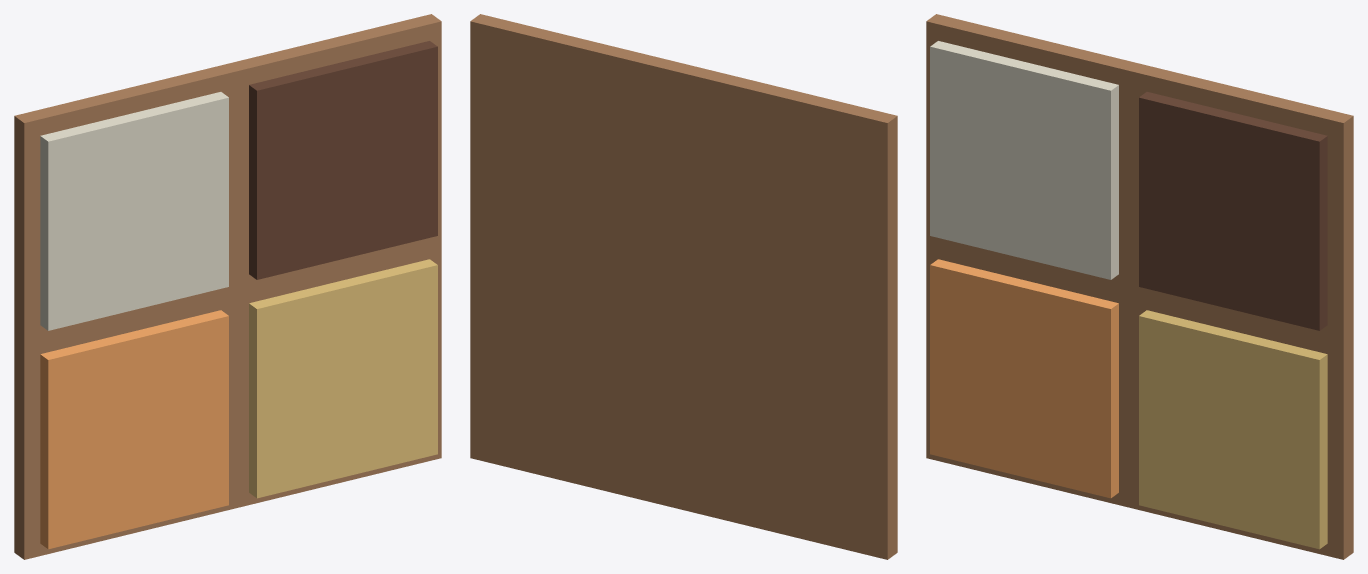
The model's file is 04_texture_remaster_overlay_4.glb.
The picture shows the model from 3 angles, left to right: view 1: azimuth 30°, elevation 25°; view 2: azimuth 150°, elevation 25°; view 3: azimuth 330°, elevation 25°; orthographic projection.
Parts seen in each view (by area): view 1: uv_reference_tile, atlas_quadrant_c, atlas_quadrant_d, atlas_quadrant_b, atlas_quadrant_a; view 2: uv_reference_tile; view 3: uv_reference_tile, atlas_quadrant_c, atlas_quadrant_d, atlas_quadrant_a, atlas_quadrant_b.
Part boxes in pixels (x1,y1,x2,y2): uv_reference_tile: (14, 14, 441, 559); atlas_quadrant_c: (40, 92, 228, 330); atlas_quadrant_d: (249, 41, 437, 279); atlas_quadrant_b: (249, 259, 437, 498); atlas_quadrant_a: (40, 310, 228, 549); uv_reference_tile: (470, 14, 897, 559); uv_reference_tile: (926, 14, 1353, 559); atlas_quadrant_c: (930, 41, 1118, 279); atlas_quadrant_d: (1139, 92, 1327, 330); atlas_quadrant_a: (930, 259, 1118, 498); atlas_quadrant_b: (1139, 310, 1327, 549).
Size of the model in its own units: 1.2 by 1.2 by 0.1.
